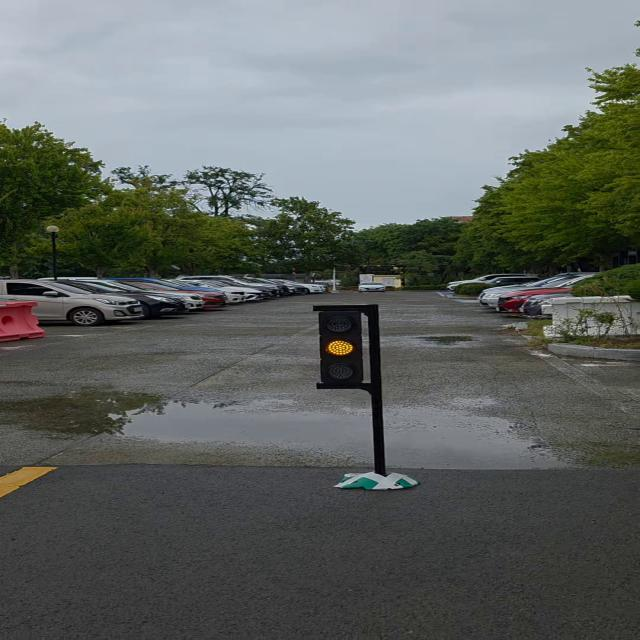yellow: (316, 306, 379, 389)
